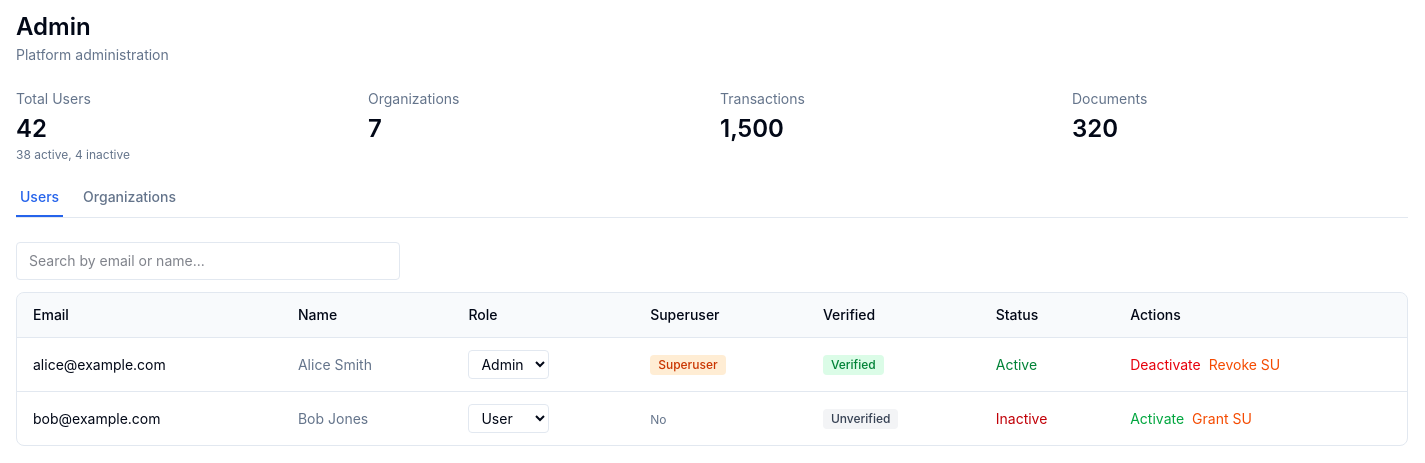
Admin › filters users by email when search query is typed
The width and height of the screenshot is (1425, 463).
Step 1. Type "alice" into the field with placeholder "Search by email or name..." → (208, 261), box top-left (16, 242), bottom-right (400, 280)
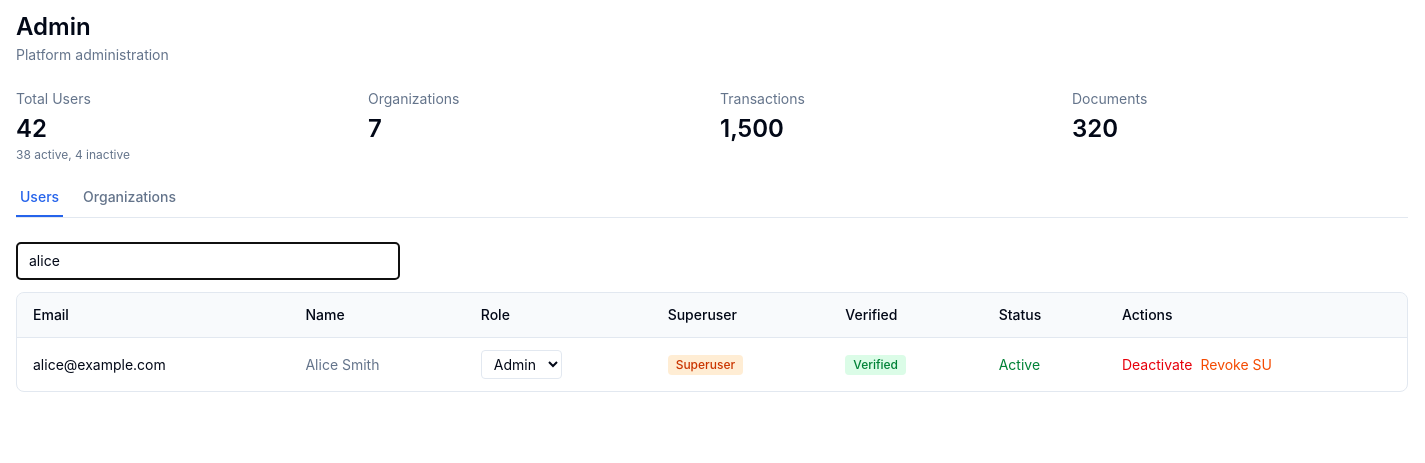
Check: the text "alice@example.com" is shown, box top-left (17, 338), bottom-right (289, 391)
Check: the text "bob@example.com" is gone
